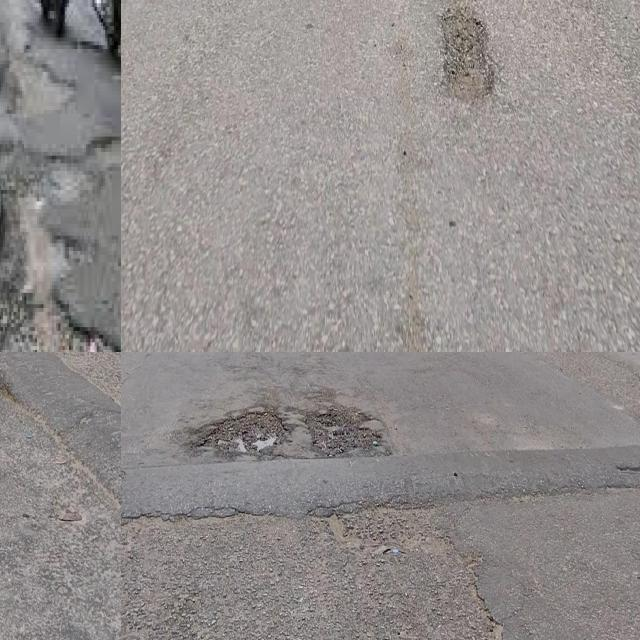Pothole: (0, 137, 114, 352), (441, 3, 495, 112), (194, 411, 290, 459), (304, 408, 379, 456)
